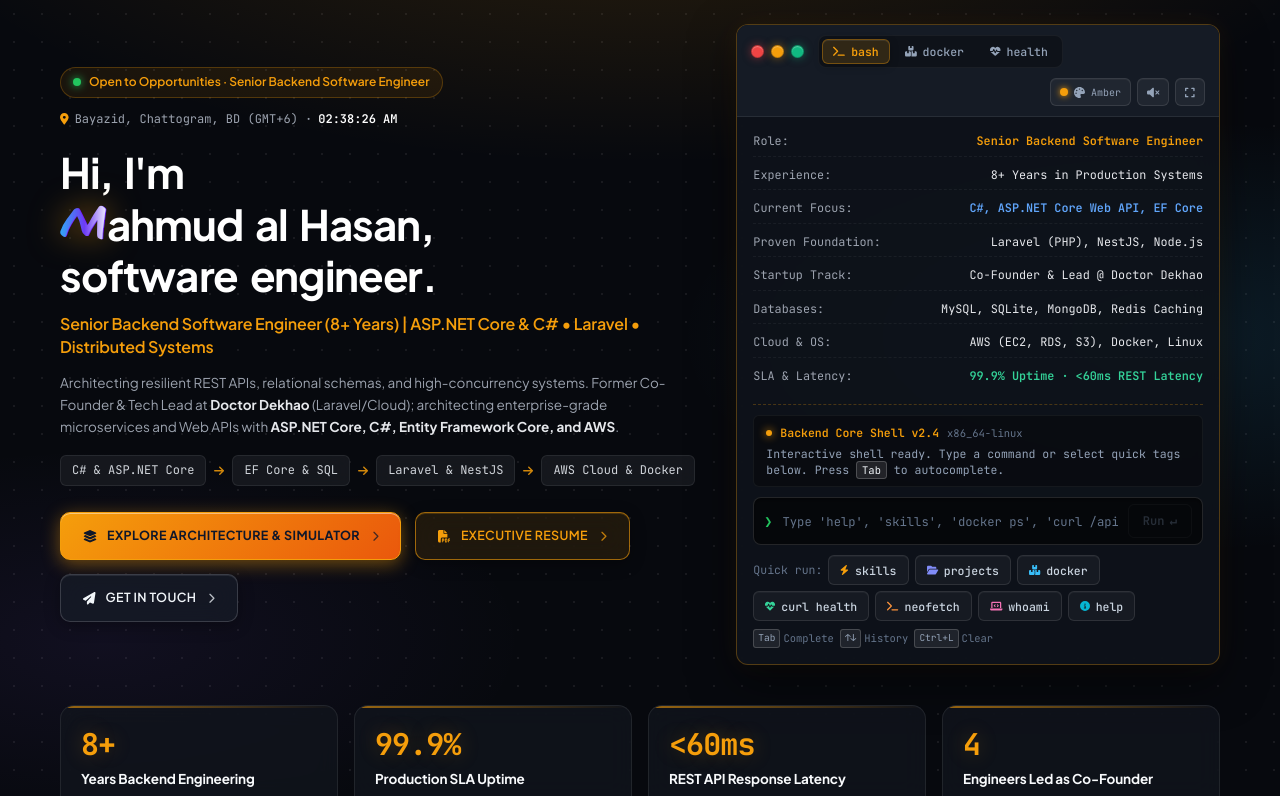
Test: Home Component › executes health probe and clears terminal with Ctrl+L shortcut
Click the button "curl health". click: [811, 606]
box: [753,591,869,621]
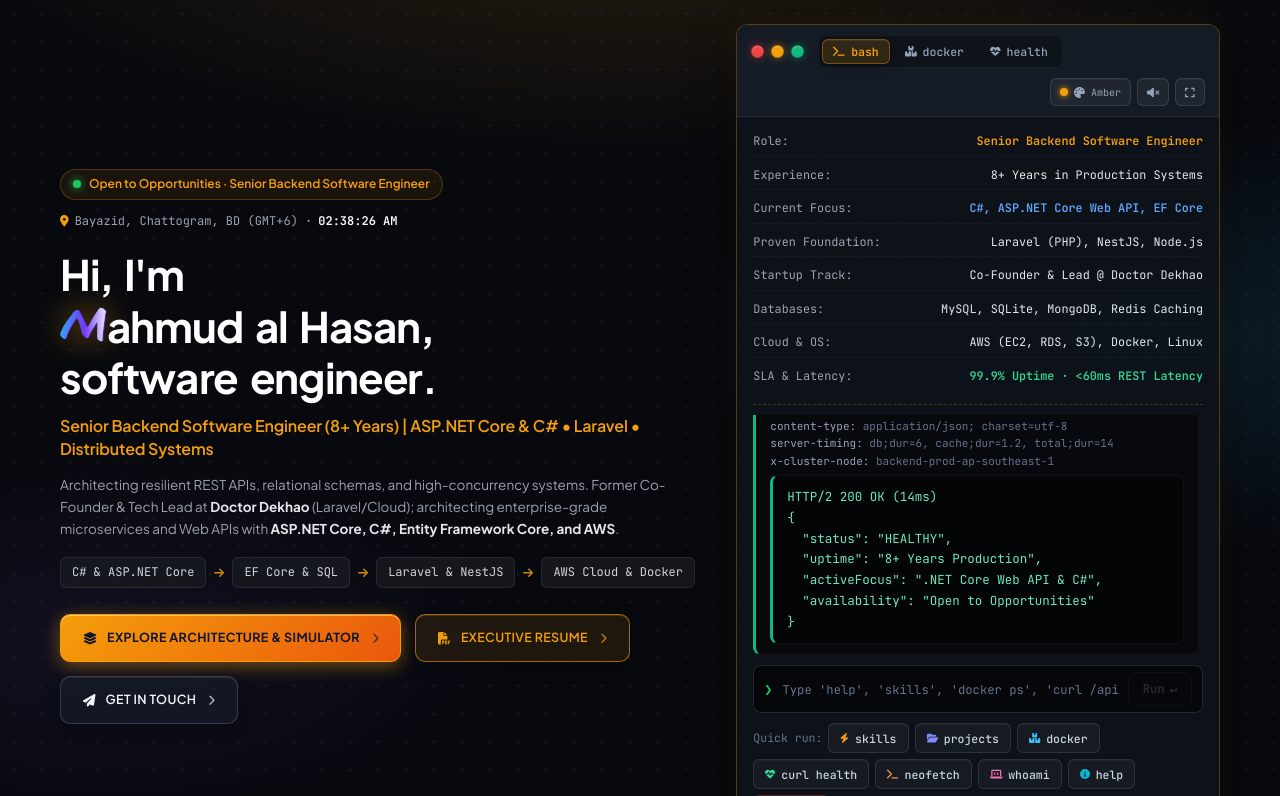
Press l in the field named "Interactive CLI command prompt", box [780,672,1120,706]
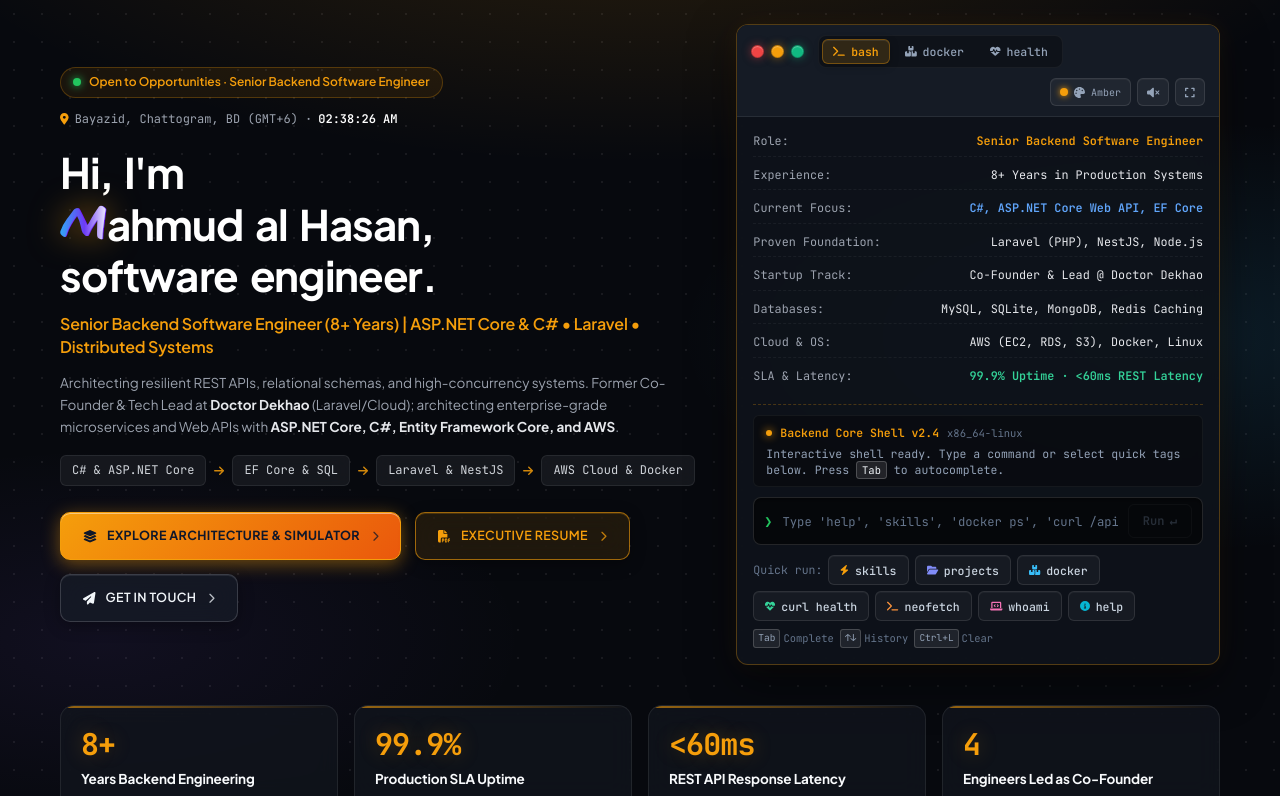
Expected: the text "HTTP/2 200 OK (14ms)" is gone
